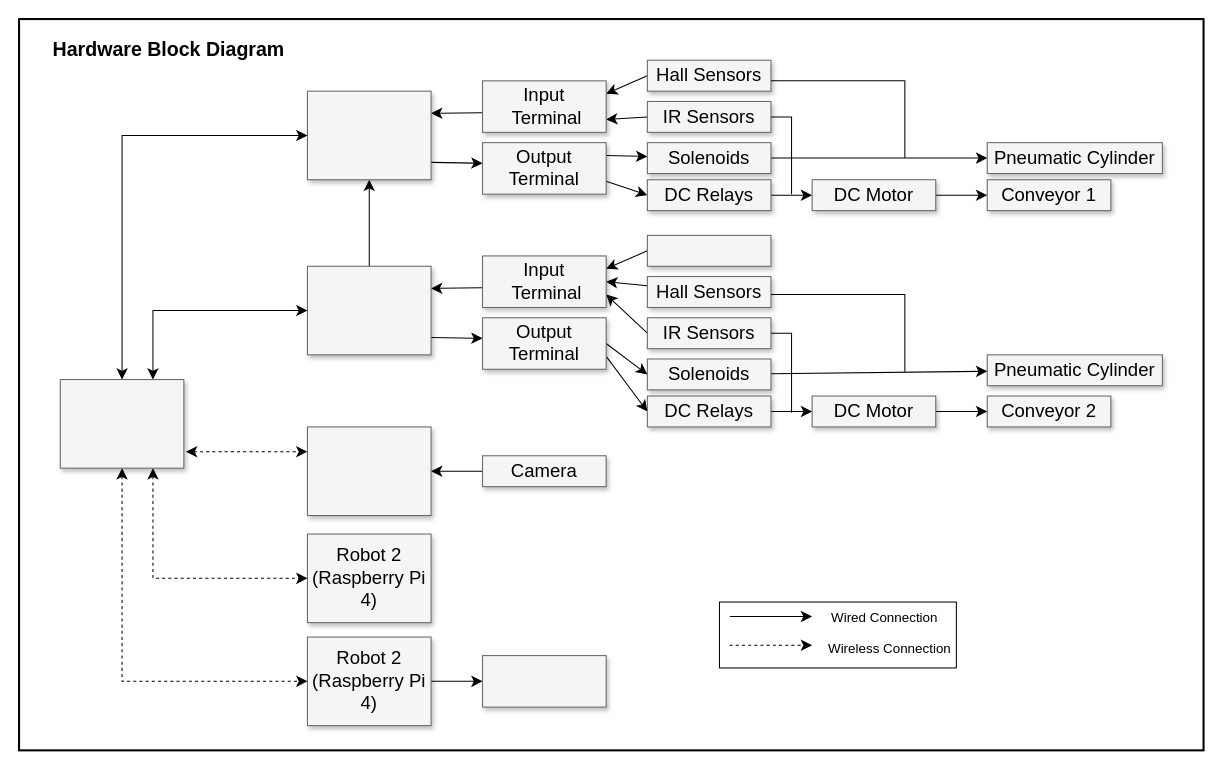
Image size: 1222x768. Some labels were removed from this diagram. Here are the shapes that lost their labels. From the top down, the centre of each, then its label:
At (369,136): "EtherCAT 1".
At (709,251): "Switches".
At (369,311): "EtherCAT 2".
At (122,424): "PC".
At (369,472): "Robot 1 (Jetson Nano)".
At (544,682): "Servo (Gripper)".
